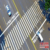zebra: (1, 1, 44, 50)
